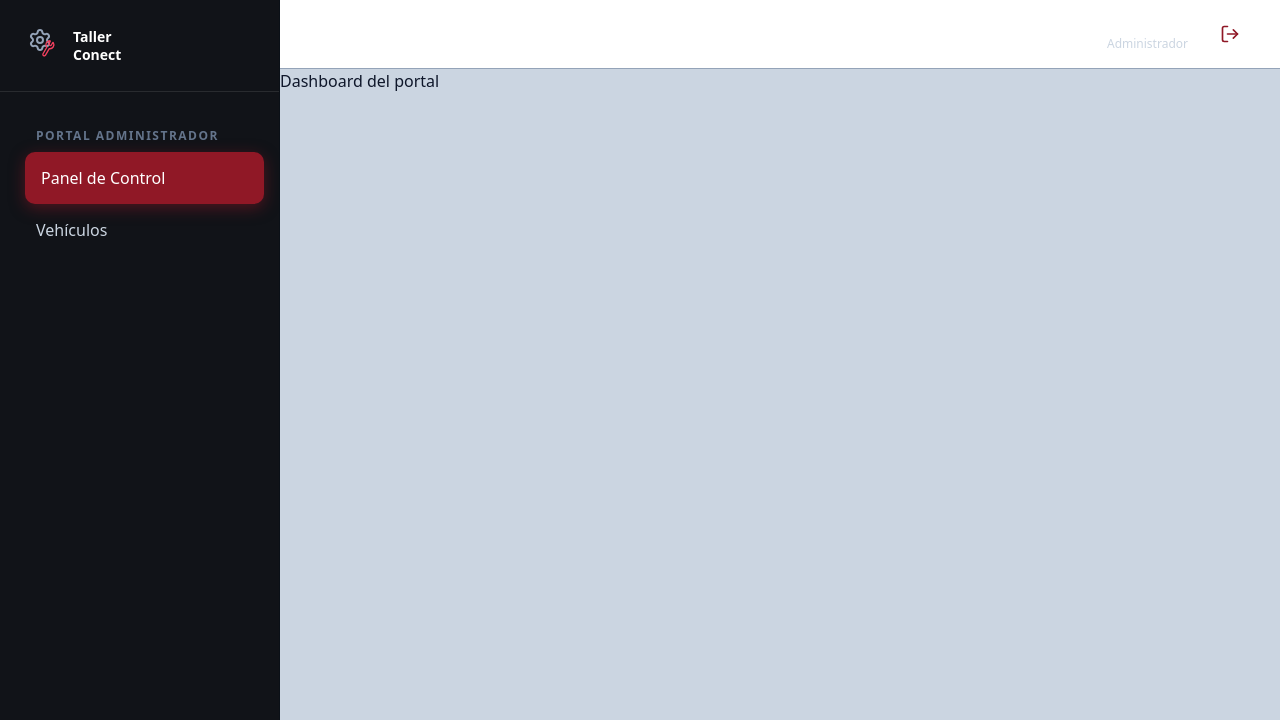
Test: RoleLayout: layout y navegación reutilizable › navega a la vista correspondiente con un clic en el enlace
The image size is (1280, 720).
What coordinates should you click on to do the following:
click the link "Vehículos"
I would click on:
 (72, 230)
Its box is [36,219,107,241].
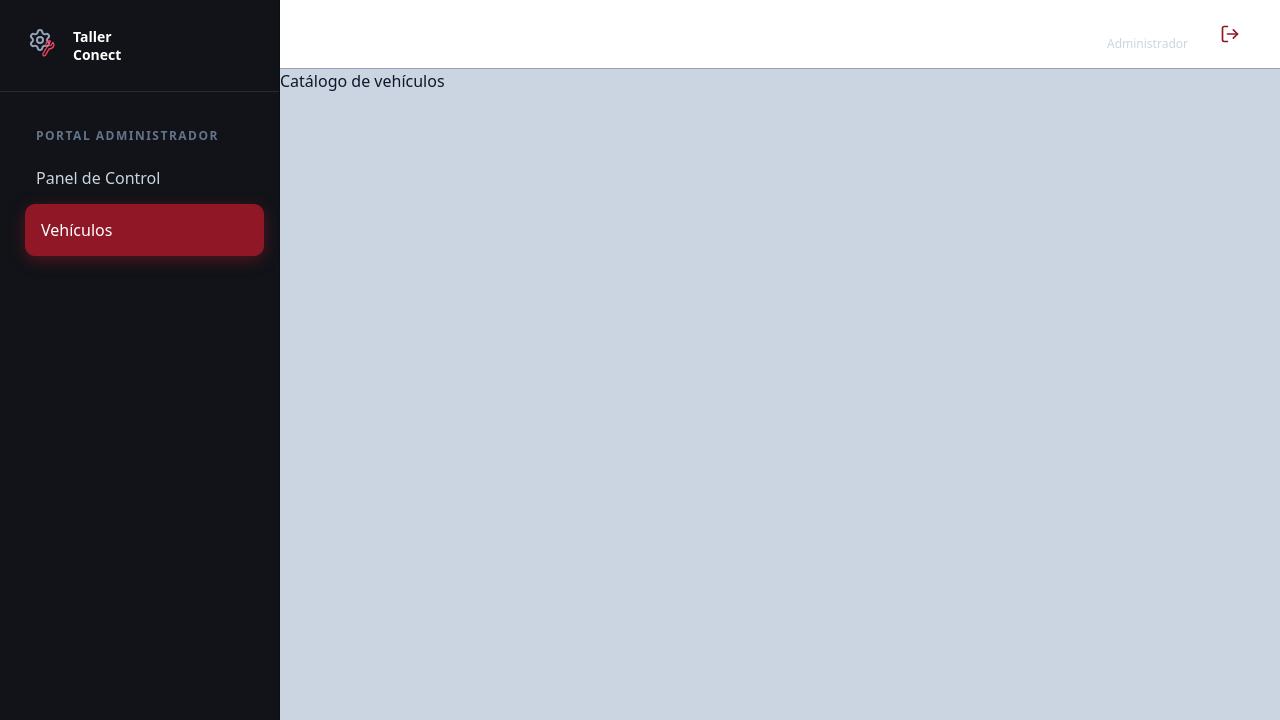
Expected: the text "Catálogo de vehículos" is shown, [280,70,445,92]
Expected: the text "Dashboard del portal" is gone
